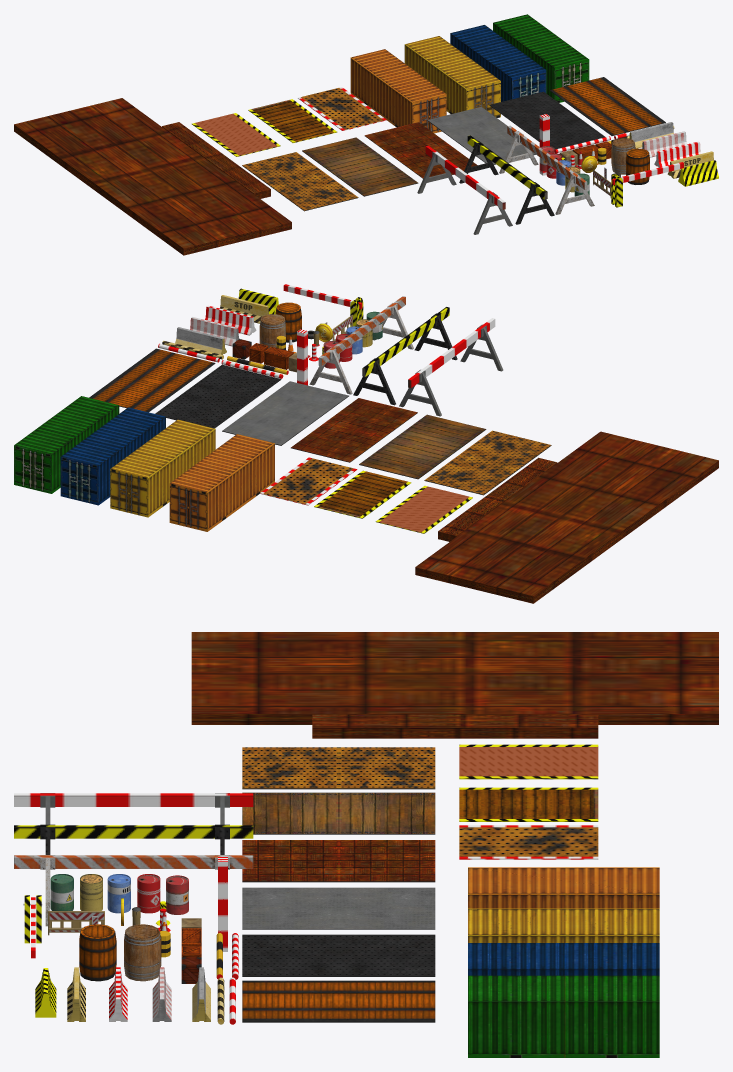
Rendered from assets.gltf.
3 views of the same model, one above another, from view 1: azimuth 30°, elevation 25°; view 2: azimuth 150°, elevation 25°; view 3: azimuth 270°, elevation 25° (orthographic). The views are drawn at different scales.
Parts seen in each view (by area): view 1: _2__9_1_lambert2_0, CONTAINER_ORANGE, CONTAINER_YELLOW, CONTAINER_BLUE, CONTAINER_GREEN, ramp_04, ramp_05, ramp_09, ramp_08, ramp_06, ramp_07, ramp_02 (+20 smaller); view 2: _2__9_1_lambert2_0, CONTAINER_ORANGE, CONTAINER_YELLOW, CONTAINER_BLUE, CONTAINER_GREEN, ramp_05, ramp_04, ramp_06, ramp_07, ramp_08, ramp_09, ramp_012 (+18 smaller); view 3: _2__9_1_lambert2_0, CONTAINER_GREEN, ramp_05, ramp_07, ramp_08, ramp_09, ramp_06, ramp_04, CONTAINER_ORANGE, _2__9__lambert2_0, CONTAINER_YELLOW, CONTAINER_BLUE (+20 smaller).
Part boxes in pixels (bbox=[...]): _2__9_1_lambert2_0: bbox=[14, 98, 291, 255]; CONTAINER_ORANGE: bbox=[350, 49, 446, 133]; CONTAINER_YELLOW: bbox=[404, 36, 500, 117]; CONTAINER_BLUE: bbox=[450, 25, 546, 101]; CONTAINER_GREEN: bbox=[493, 14, 589, 102]; ramp_04: bbox=[302, 137, 418, 196]; ramp_05: bbox=[242, 152, 358, 211]; ramp_09: bbox=[549, 77, 665, 135]; ramp_08: bbox=[489, 91, 605, 149]; ramp_06: bbox=[364, 122, 477, 178]; ramp_07: bbox=[427, 107, 535, 164]; ramp_02: bbox=[192, 113, 280, 156]; _2__9_1_lambert2_0: bbox=[415, 431, 718, 603]; CONTAINER_ORANGE: bbox=[169, 434, 274, 531]; CONTAINER_YELLOW: bbox=[110, 419, 215, 517]; CONTAINER_BLUE: bbox=[60, 407, 165, 505]; CONTAINER_GREEN: bbox=[14, 396, 119, 493]; ramp_05: bbox=[424, 430, 551, 495]; ramp_04: bbox=[359, 414, 486, 479]; ramp_06: bbox=[291, 398, 417, 462]; ramp_07: bbox=[222, 381, 348, 445]; ramp_08: bbox=[155, 364, 281, 428]; ramp_09: bbox=[89, 348, 215, 412]; ramp_012: bbox=[260, 457, 357, 505]; _2__9_1_lambert2_0: bbox=[191, 632, 718, 724]; CONTAINER_GREEN: bbox=[468, 975, 659, 1057]; ramp_05: bbox=[242, 747, 435, 789]; ramp_07: bbox=[242, 887, 435, 929]; ramp_08: bbox=[242, 934, 435, 976]; ramp_09: bbox=[242, 980, 435, 1022]; ramp_06: bbox=[242, 840, 435, 882]; ramp_04: bbox=[242, 792, 435, 834]; CONTAINER_ORANGE: bbox=[468, 867, 659, 908]; _2__9__lambert2_0: bbox=[312, 714, 598, 738]; CONTAINER_YELLOW: bbox=[468, 908, 659, 942]; CONTAINER_BLUE: bbox=[468, 943, 659, 975].
Bounding box in the file's own units: 28.97 × 3.75 × 22.81.
1 material, 1 textured.
